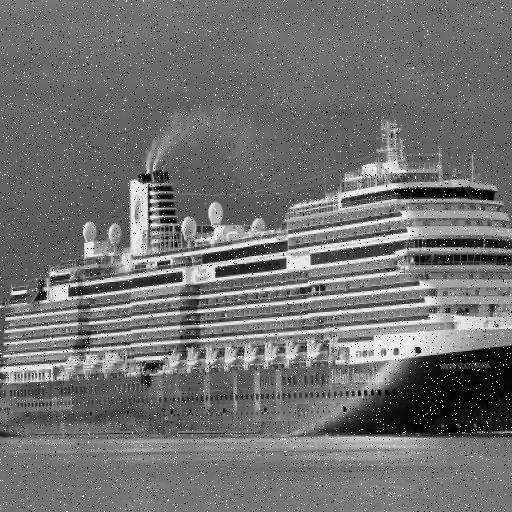cruises: (1, 130, 512, 440)
